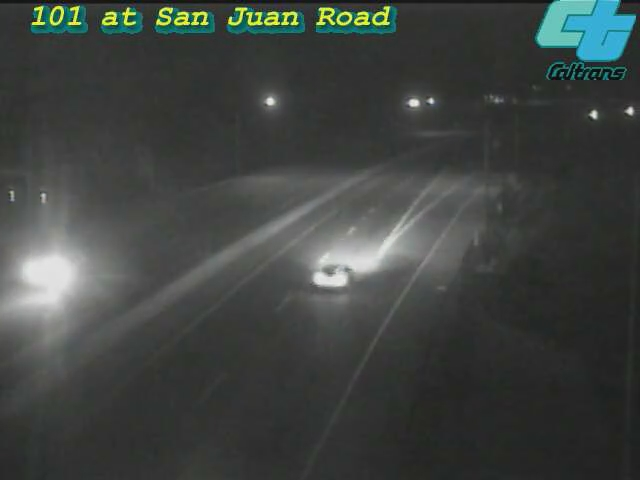vehicle: (3, 235, 83, 315), (291, 234, 371, 314), (568, 90, 618, 140), (604, 87, 640, 137)
